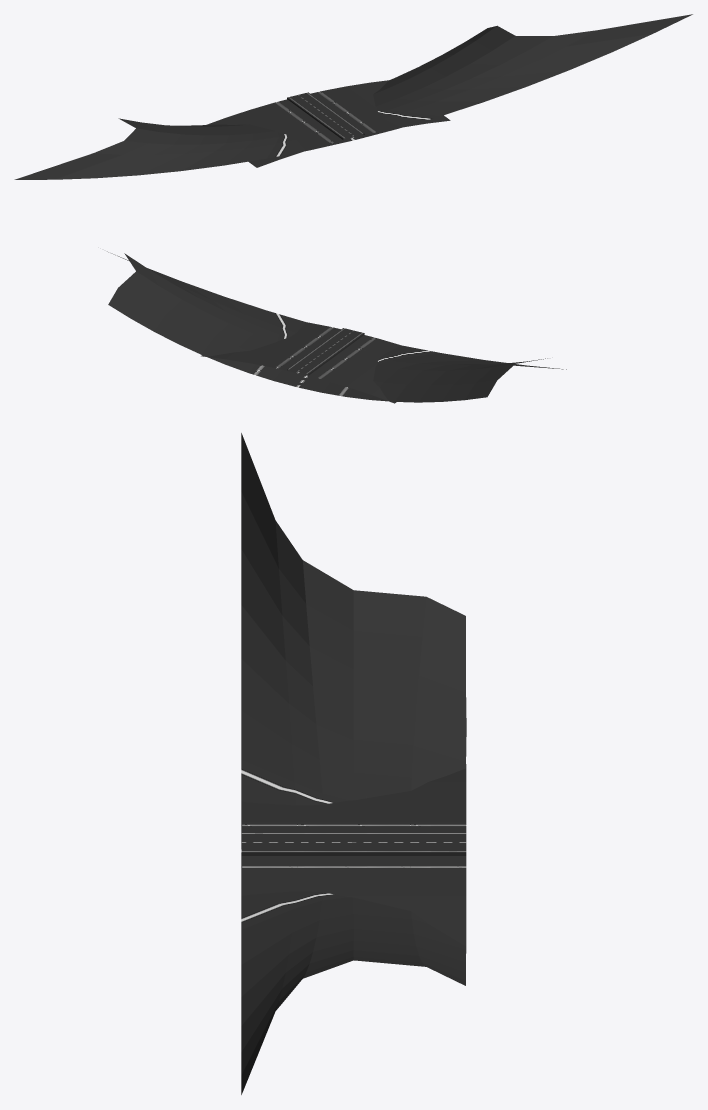
File: low_to_flat_a.FBX
3 renders of one model, top to bottom at view 1: azimuth 30°, elevation 25°; view 2: azimuth 150°, elevation 25°; view 3: azimuth 270°, elevation 25°, orthographic. The views are drawn at different scales.
Visible parts, largest first — view 1: Object007, Object008, Object006; view 2: Object007, Object008, Object006; view 3: Object007, Object008, Object006.
Boxes of the visible parts, bbox=[...] form: Object007: bbox=[14, 14, 692, 179]; Object008: bbox=[206, 80, 450, 167]; Object006: bbox=[287, 92, 364, 139]; Object007: bbox=[107, 251, 566, 402]; Object008: bbox=[201, 322, 401, 403]; Object006: bbox=[287, 328, 364, 375]; Object007: bbox=[241, 433, 466, 1094]; Object008: bbox=[241, 764, 466, 953]; Object006: bbox=[241, 832, 466, 855].
Size of the model in its own units: 89440 by 6916 by 12832.
